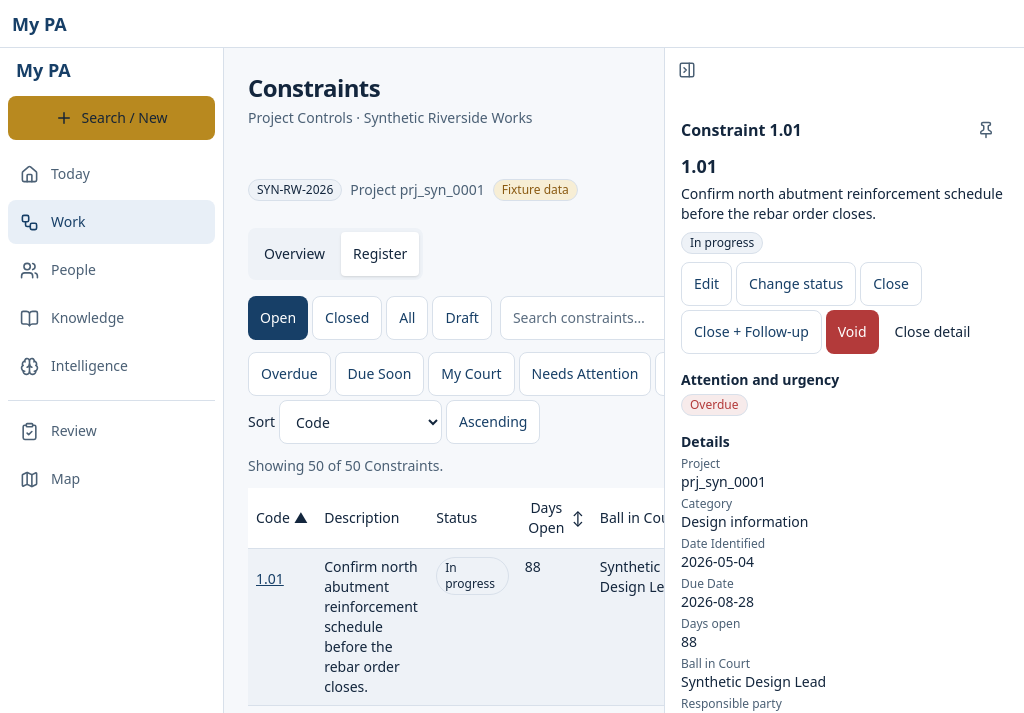
Test: the fixture-only lifecycle surfaces › says the record is unchanged, and names no version or receipt, while diagnostics are off
Click the button with test id "inspector-close": click(891, 284) [860,262,922,306]
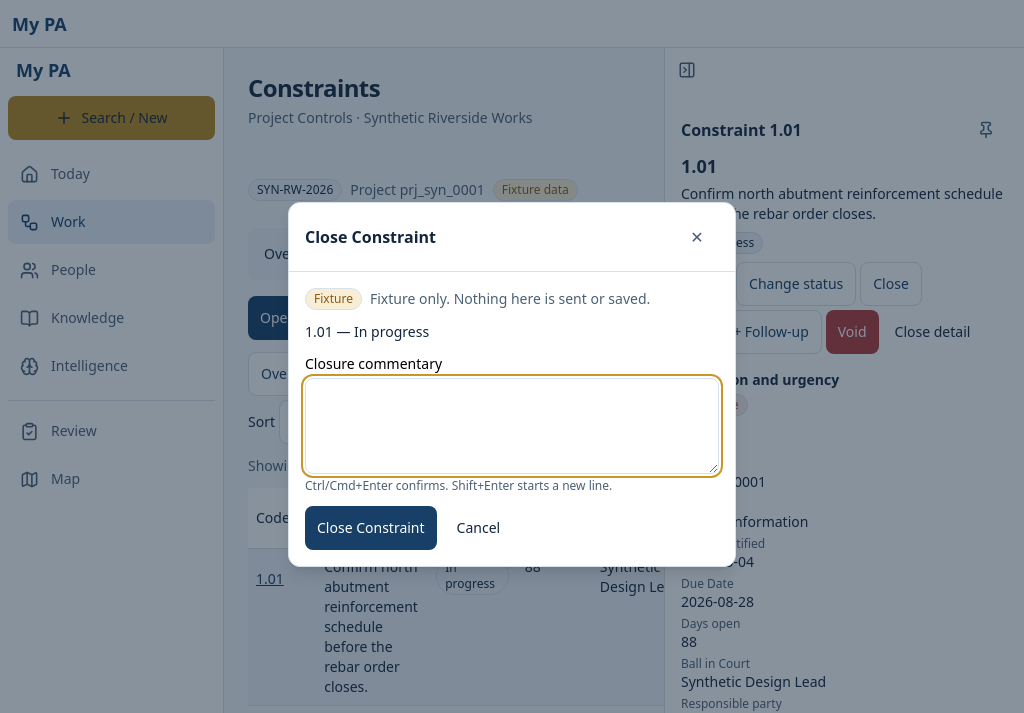
Check: the element with test id "synthetic-notice-lifecycle" shows "Fixture only. Nothing here is sent or saved.", box [370,288,650,308]
Click the button with test id "lifecycle-confirm": click(371, 528) [305,506,437,550]
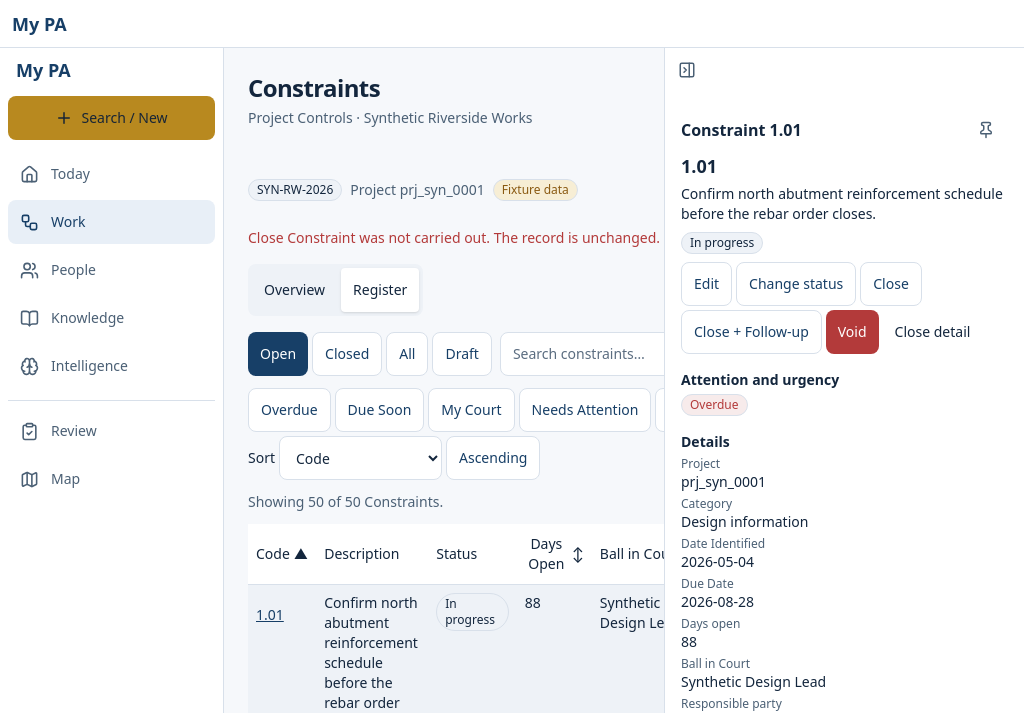
Check: the message with test id "workspace-live" shows "was not carried out. The record is unchanged", box [248,228,660,247]
